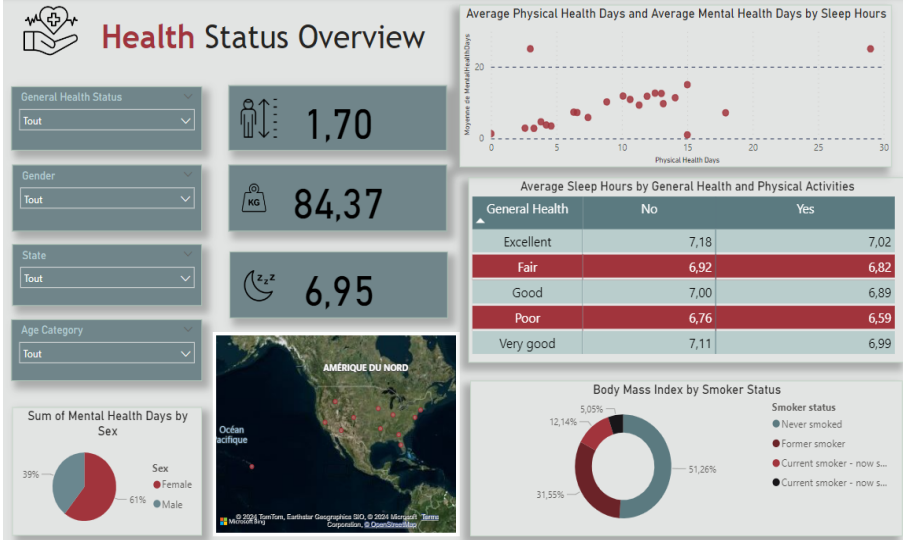

This screenshot's page, from the dashboard's own definition file:
{"tool":"powerbi","page":{"name":"Page 1","canvas":[1280,720],"ordinal":0},"visuals":[{"type":"slicer","fields":{"Values":["BODY VITAL STATISTICS.GeneralHealth"]},"box":[13.3,115,266.7,83.3],"z":0},{"type":"slicer","fields":{"Values":["GENDER.Sex"]},"box":[15,216.7,265,86.7],"z":1000},{"type":"slicer","fields":{"Values":["STATE.State"]},"box":[15,320,265,80],"z":2000},{"type":"slicer","fields":{"Values":["AGE.AgeCategory"]},"box":[13.3,416.7,266.7,80],"z":3000},{"type":"textbox","box":[135,20,486.7,66.7],"z":4000},{"type":"image","box":[0,0,137.5,86.2],"z":5000},{"type":"card","fields":{"Values":["Avg(BODY VITAL STATISTICS.WeightInKilograms)"]},"box":[316.7,216.7,305,86.7],"z":6000},{"type":"card","fields":{"Values":["Avg(BODY VITAL STATISTICS.HeightInMeters)"]},"box":[316.7,113.3,305,85],"z":7000},{"type":"image","box":[330,123.3,60,66.7],"z":8000},{"type":"image","box":[330,233.3,46.7,53.3],"z":9000},{"type":"map","fields":{"Category":["STATE.State"]},"box":[295,433.3,345,265],"z":10000},{"type":"donutChart","title":"Sum of Mental Health Days by Sex","fields":{"Category":["GENDER.Sex"],"Y":["Sum(FACT_HEALTH.MentalHealthDays)"]},"box":[15,531.7,265,166.7],"z":11000},{"type":"pieChart","title":"Body Mass Index by Smoker Status","fields":{"Y":["CountNonNull(BODY VITAL STATISTICS.BMI)"],"Category":["BODY VITAL STATISTICS.SmokerStatus"]},"box":[655,496.7,603.3,201.7],"z":12000},{"type":"card","fields":{"Values":["Avg(BODY VITAL STATISTICS.SleepHours)"]},"box":[318.3,330,305,86.7],"z":13000},{"type":"image","box":[301.7,346.7,116.7,53.3],"z":14000},{"type":"scatterChart","title":"Average Physical Health Days and Average Mental Health Days by Sleep Hours","fields":{"X":["Avg(FACT_HEALTH.PhysicalHealthDays)"],"Y":["Avg(FACT_HEALTH.MentalHealthDays)"],"Category":["BODY VITAL STATISTICS.SleepHours"]},"box":[640,10,603.3,210],"z":15000},{"type":"pivotTable","title":"Average Sleep Hours by General Health and Physical Activities","fields":{"Rows":["BODY VITAL STATISTICS.GeneralHealth"],"Columns":["BODY VITAL STATISTICS.PhysicalActivities"],"Values":["Avg(BODY VITAL STATISTICS.SleepHours)"]},"box":[651.7,233.3,610,240],"z":16000}]}

Visuals, with their boxes in screenshot pixels (x1, y1, x2, y2):
slicer - BODY VITAL STATISTICS.GeneralHealth: (7, 111, 200, 171)
slicer - GENDER.Sex: (8, 185, 200, 247)
slicer - STATE.State: (8, 259, 200, 317)
slicer - AGE.AgeCategory: (7, 329, 200, 386)
textbox: (95, 43, 446, 91)
image: (0, 28, 97, 90)
card - Avg(BODY VITAL STATISTICS.WeightInKilograms): (226, 185, 446, 247)
card - Avg(BODY VITAL STATISTICS.HeightInMeters): (226, 110, 446, 171)
image: (236, 117, 279, 165)
image: (236, 196, 269, 235)
map - STATE.State: (210, 341, 459, 532)
"Sum of Mental Health Days by Sex" donutChart: (8, 412, 200, 532)
"Body Mass Index by Smoker Status" pieChart: (470, 386, 902, 532)
card - Avg(BODY VITAL STATISTICS.SleepHours): (227, 266, 447, 329)
image: (215, 278, 299, 317)
"Average Physical Health Days and Average Mental Health Days by Sleep Hours" scatterChart: (459, 35, 894, 187)
"Average Sleep Hours by General Health and Physical Activities" pivotTable: (468, 196, 902, 370)
